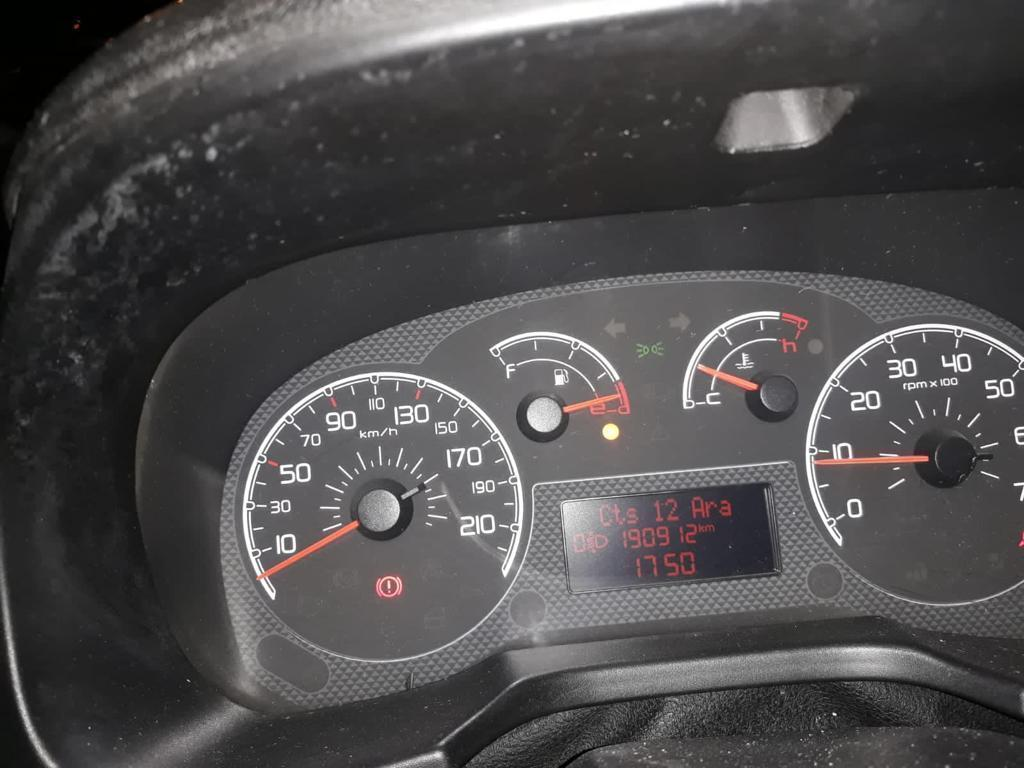0: (679, 550, 696, 575), (641, 526, 655, 549), (571, 532, 586, 553)
1: (652, 497, 664, 523), (633, 556, 642, 579), (620, 528, 628, 549), (677, 525, 684, 544)
2: (664, 496, 679, 522), (684, 522, 697, 544)
5: (661, 551, 679, 577)
7: (643, 552, 659, 578)
9: (656, 525, 670, 547), (628, 527, 641, 550)
X: (690, 495, 705, 519), (598, 503, 612, 528), (611, 503, 625, 526), (718, 498, 733, 517), (625, 507, 639, 526), (704, 500, 718, 518), (704, 523, 715, 532), (698, 521, 704, 532)
odometer: (556, 480, 785, 596)
